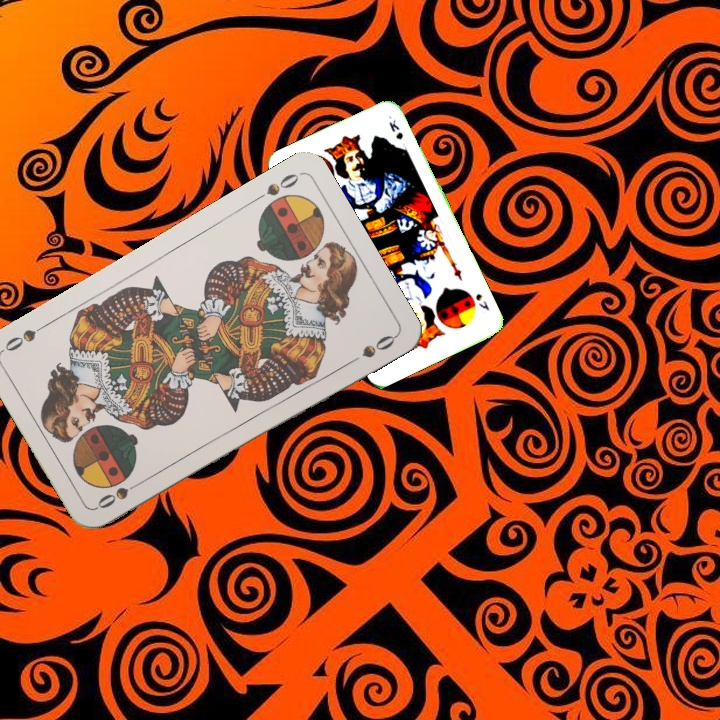SK: (471, 289, 492, 313)
SO: (93, 476, 147, 512), (249, 169, 302, 205)
